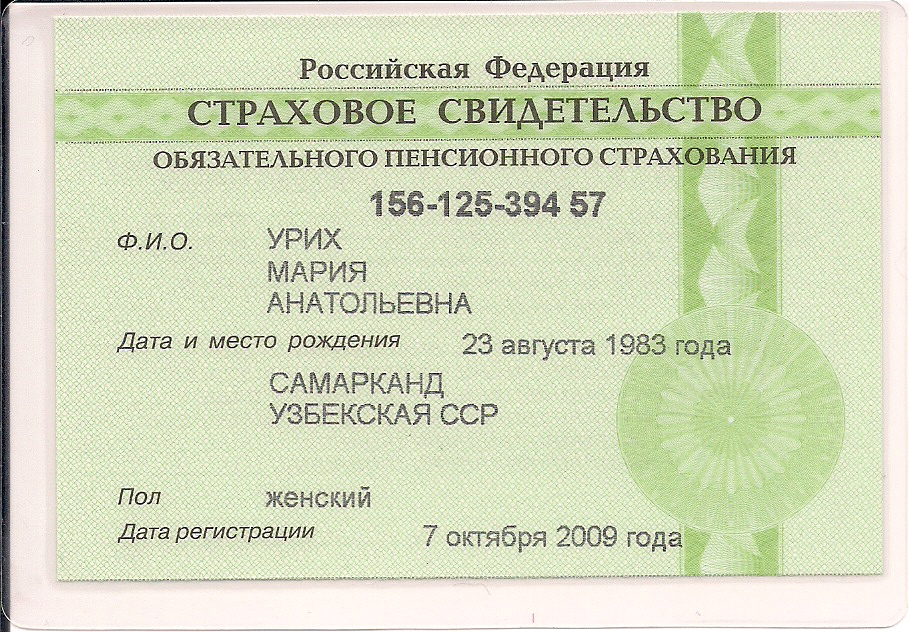text: (264, 365, 502, 430), (359, 182, 616, 223), (416, 519, 688, 554), (456, 330, 736, 362), (259, 288, 481, 319), (258, 254, 375, 287), (260, 483, 385, 510), (263, 223, 357, 256)
